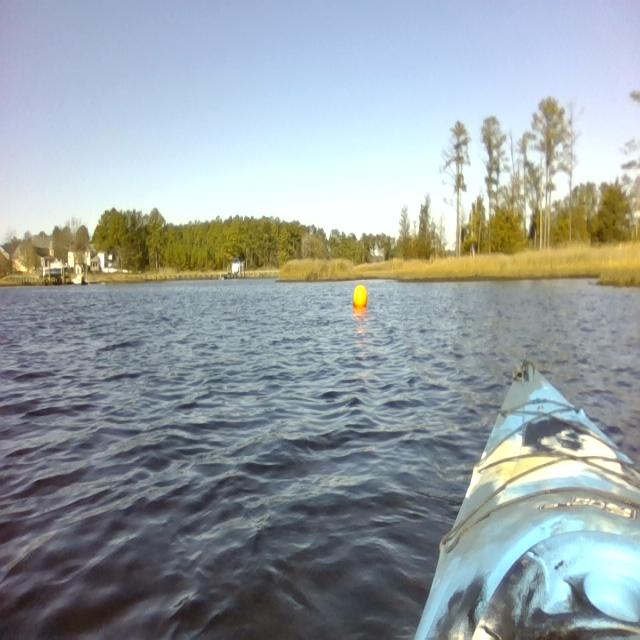Buoy: (348, 278, 372, 316)
